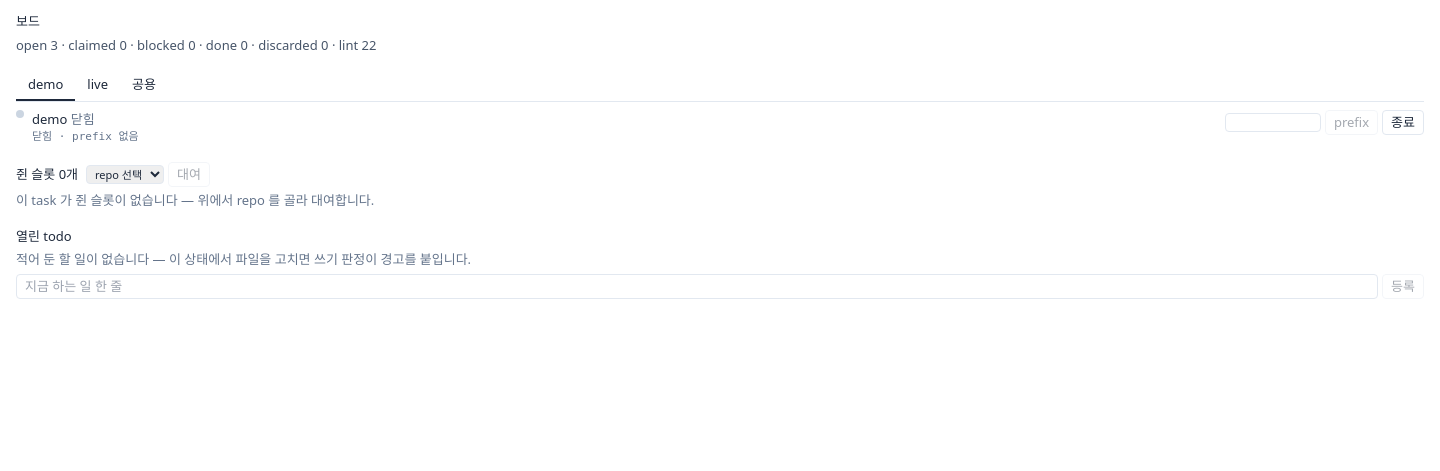
Scenario: 현황 탭 읽기 부분 › 슬롯 행마다 엔진 값 그대로의 점을 보인다
Press the mouse on the tab with test id "task-tab-shared" at (144, 86), box [120,71,168,100]
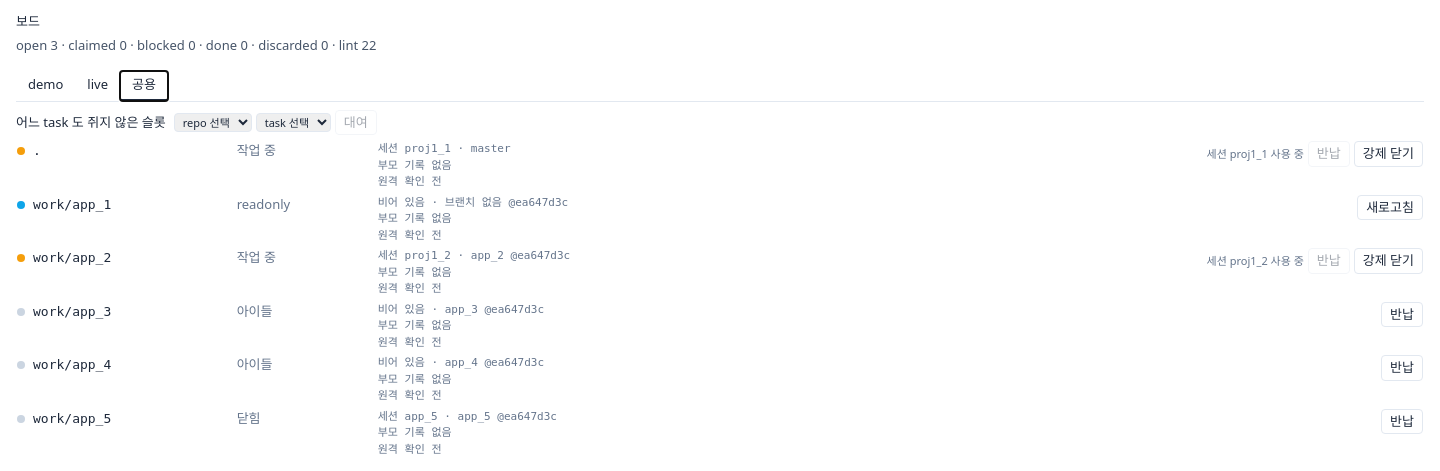
Expected: the row with test id "slot-." shows "작업 중", [237,141,276,159]
